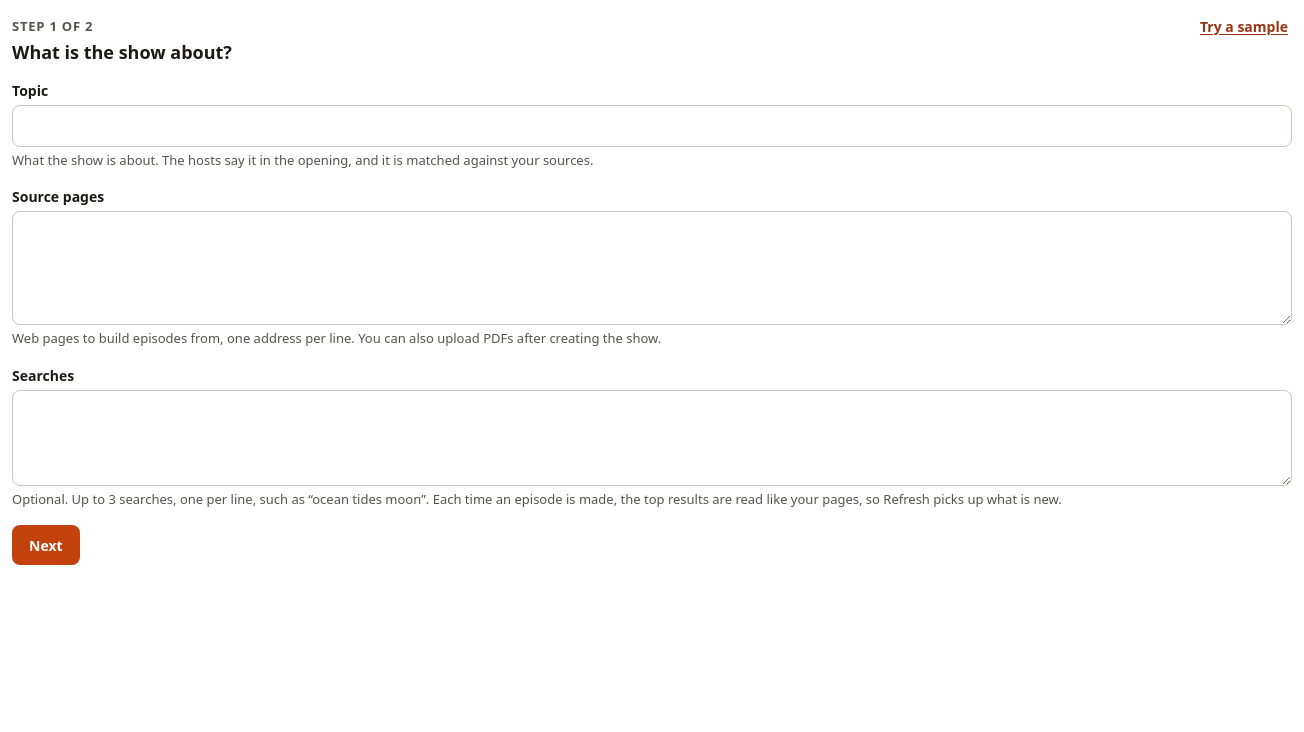
Scenario: new show wizard › needs only a topic, sending the defaults for the rest
The width and height of the screenshot is (1304, 732).
Later steps or results of the test are not shown.
Type "Tides and the moon" into the field labelled "Topic".
click(652, 126); type("Tides and the moon")  # box x1=12 y1=104 x2=1292 y2=146
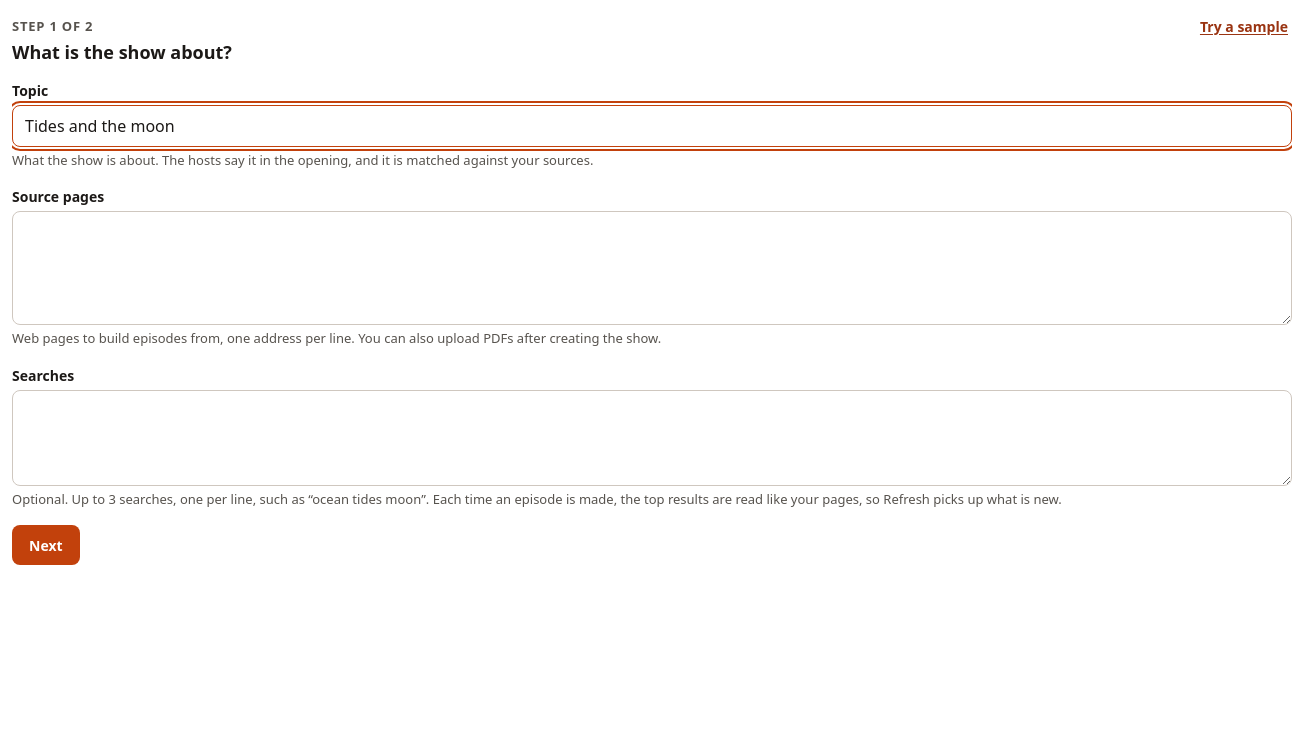
Click the button "Next".
click(46, 545)  # box x1=12 y1=525 x2=80 y2=565
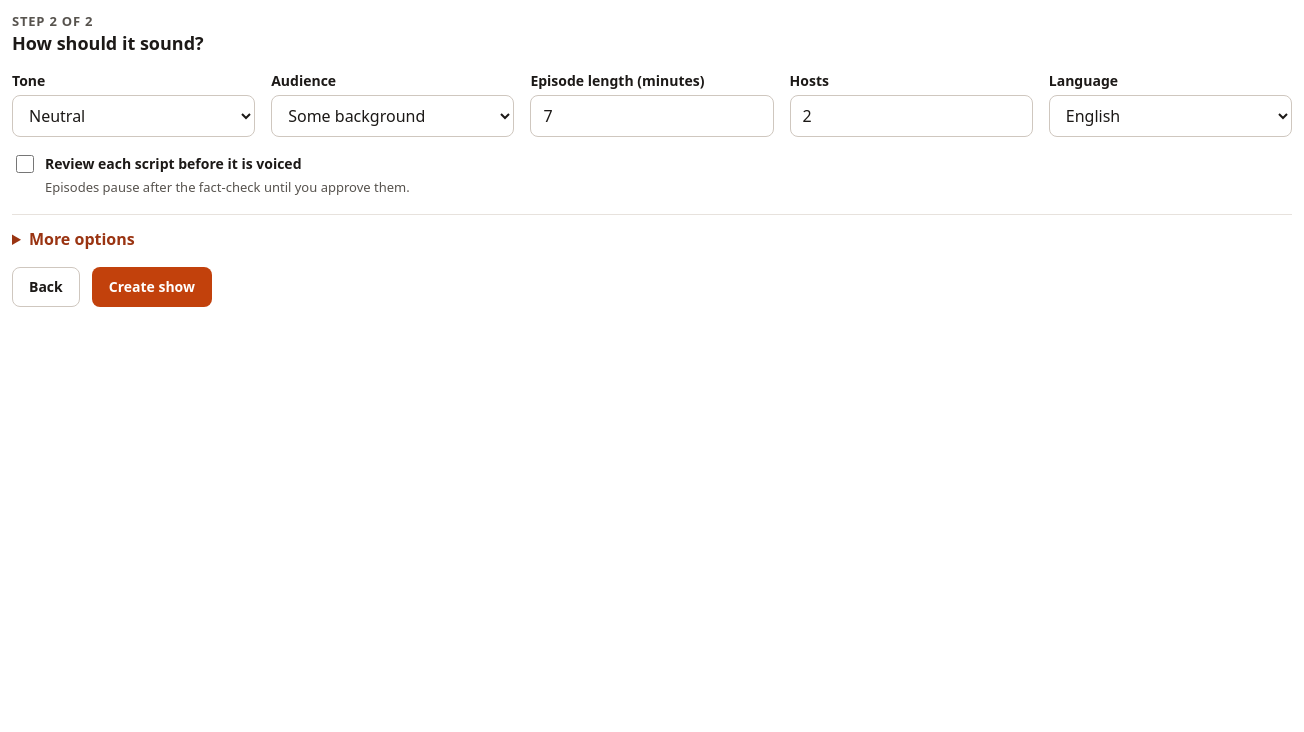
Expected: the heading "How should it sound?" is shown, x1=12 y1=30 x2=204 y2=54
